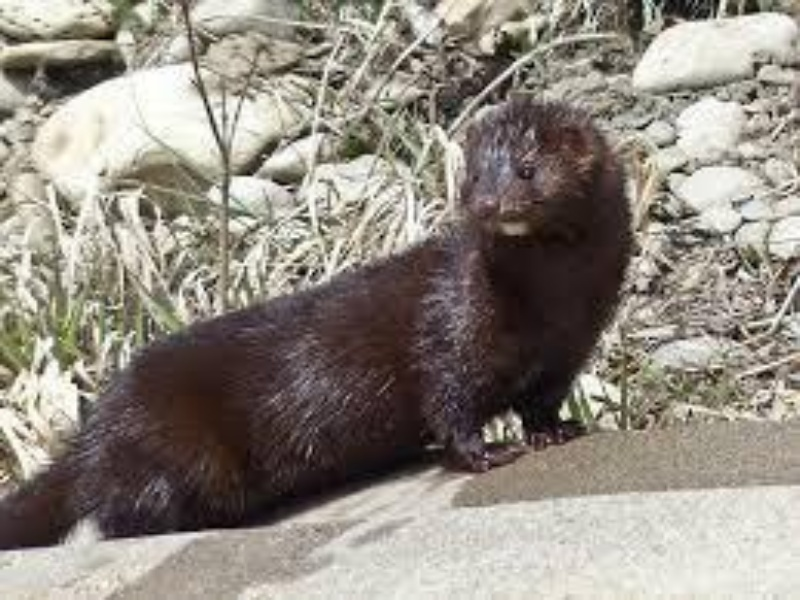minkish: (1, 98, 635, 555)
